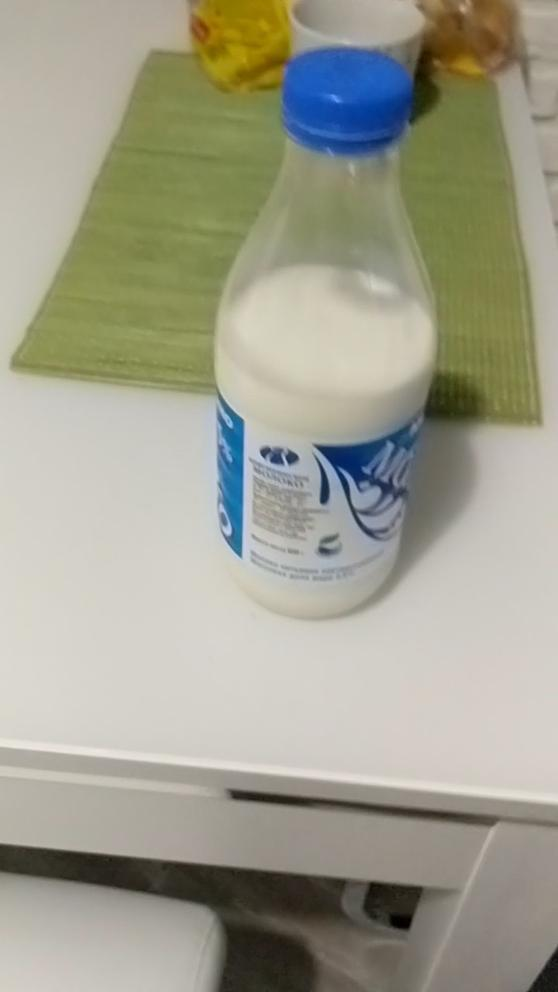milk: (199, 29, 453, 646)
